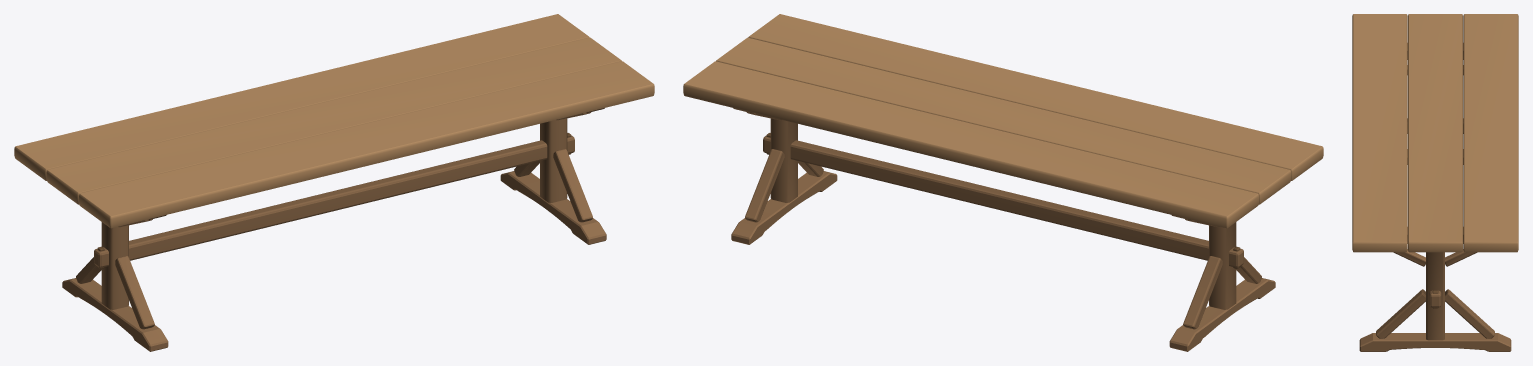
File: tableFarmhouse6.glb
3 renders of one model, left to right at view 1: azimuth 30°, elevation 25°; view 2: azimuth 150°, elevation 25°; view 3: azimuth 270°, elevation 25°, orthographic. The views are drawn at different scales.
Parts seen in each view (by area): view 1: tableFarmhouse6; view 2: tableFarmhouse6; view 3: tableFarmhouse6.
Part boxes in pixels (left/top/right/bottom): tableFarmhouse6: left=14, top=14, right=654, bottom=351; tableFarmhouse6: left=683, top=14, right=1323, bottom=351; tableFarmhouse6: left=1352, top=14, right=1518, bottom=351.
Bounding box in the file's own units: 2.86 × 0.75 × 0.8795.
